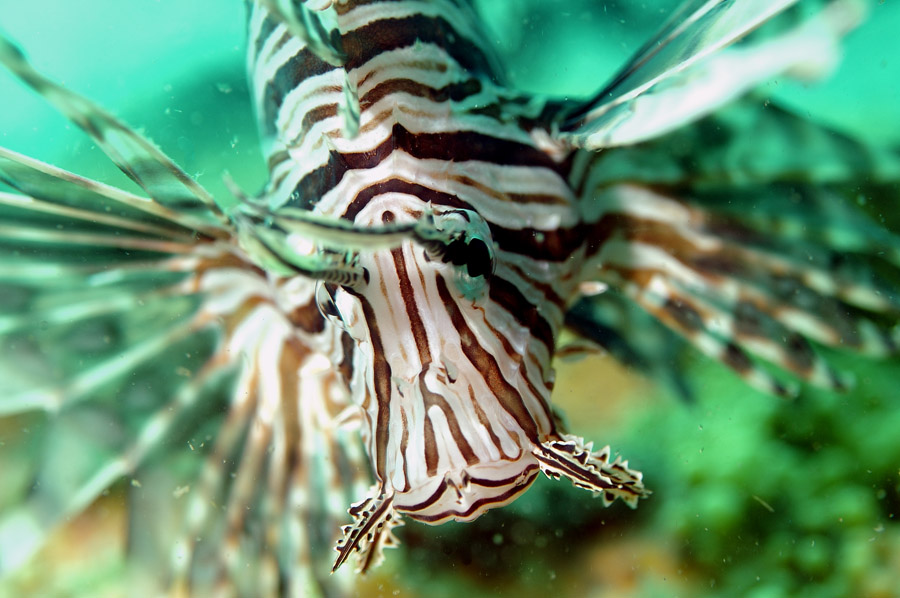Pterois_volitans: (59, 1, 802, 568)
